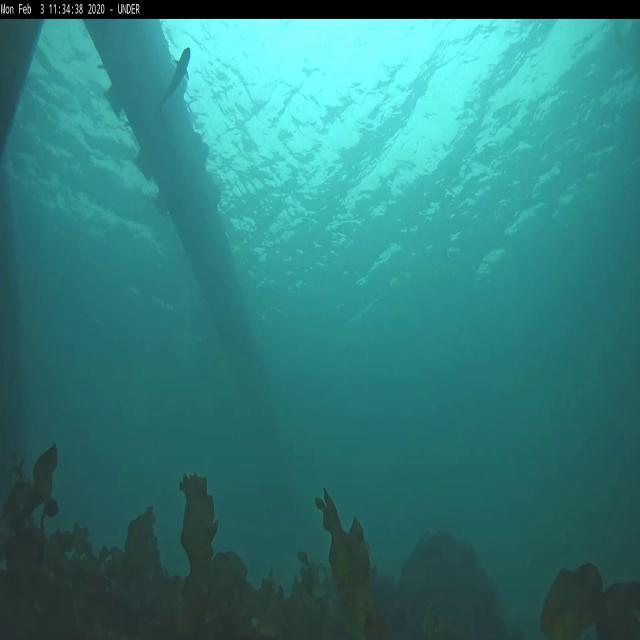fish: (162, 46, 191, 118)
